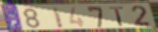2: (131, 5, 153, 27)
4: (68, 6, 86, 29)
7: (86, 6, 104, 29)
8: (22, 7, 43, 30)
I: (51, 7, 65, 29)
T: (109, 6, 126, 27)
